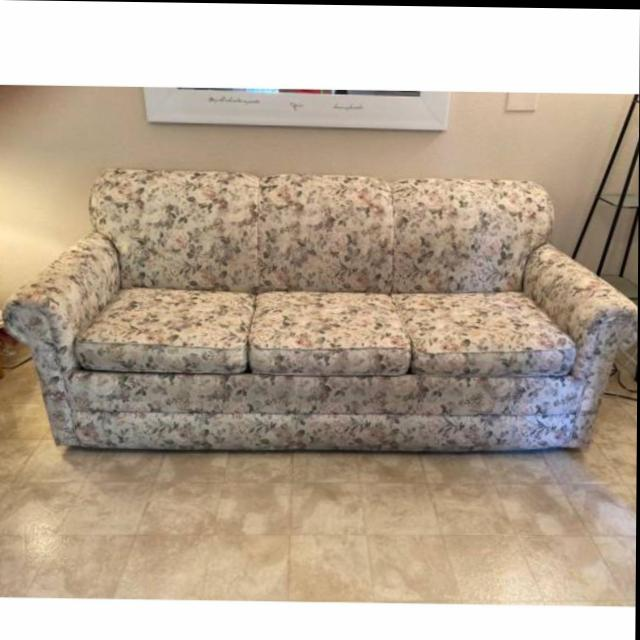Sofa: (0, 163, 639, 457)
